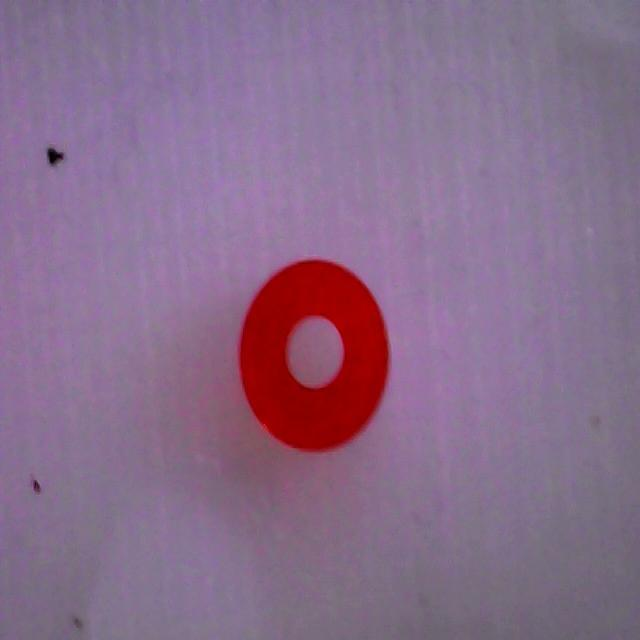beads: (236, 257, 393, 453)
